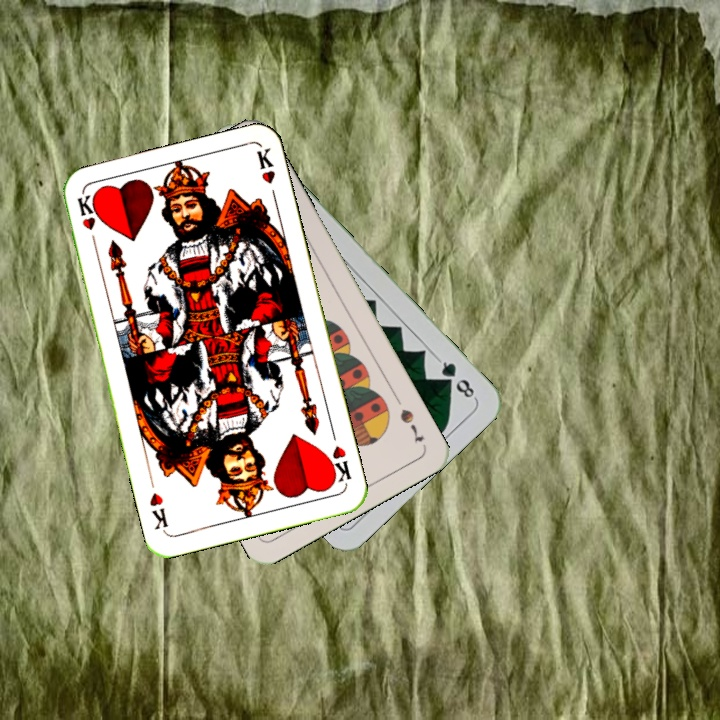G8: (433, 355, 479, 403)
HK: (322, 428, 354, 487), (73, 191, 100, 250)
S7: (396, 404, 427, 445)
